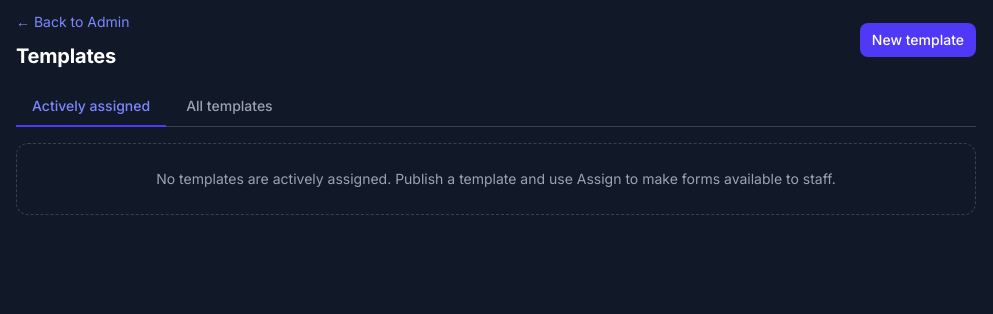
Test: LeadershipTeamTemplateLibrary › switches to all templates tab via tab control
The image size is (993, 314).
Expected: the text with test id "lt-tpl-assigned-empty" is shown, [16,143,976,215]
Click the button with test id "lt-tpl-tab-all". click: (229, 107)
box: [170,87,289,127]
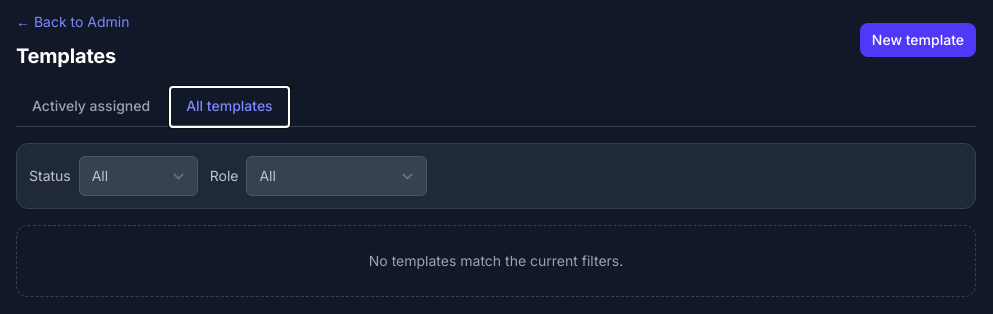
Expected: the text "No templates match the current filters." is shown, [16,225,976,297]
